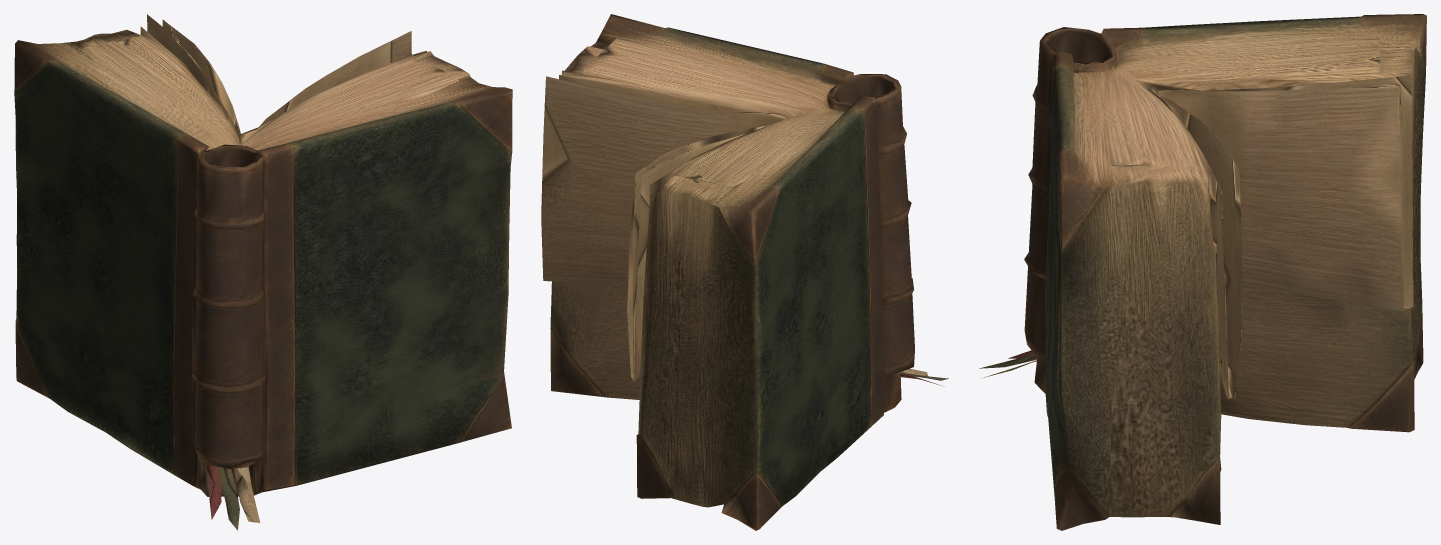
File: SYS_BOOK_v001_RAW.glb
The picture shows the model from 3 angles, left to right: view 1: azimuth 30°, elevation 25°; view 2: azimuth 150°, elevation 25°; view 3: azimuth 270°, elevation 25°; orthographic projection. The views are drawn at different scales.
Parts seen in each view (by area): view 1: tripo_node_52952fce-138e-44c9-bc8c-d201285db21b; view 2: tripo_node_52952fce-138e-44c9-bc8c-d201285db21b; view 3: tripo_node_52952fce-138e-44c9-bc8c-d201285db21b.
Boxes of the visible parts, box(x1,y1,x2,y2) form: tripo_node_52952fce-138e-44c9-bc8c-d201285db21b: box(14, 14, 512, 530); tripo_node_52952fce-138e-44c9-bc8c-d201285db21b: box(541, 14, 948, 530); tripo_node_52952fce-138e-44c9-bc8c-d201285db21b: box(979, 14, 1426, 530).
Size of the model in its own units: 0.8565 by 0.8517 by 0.9723.
1 material, 1 textured.
